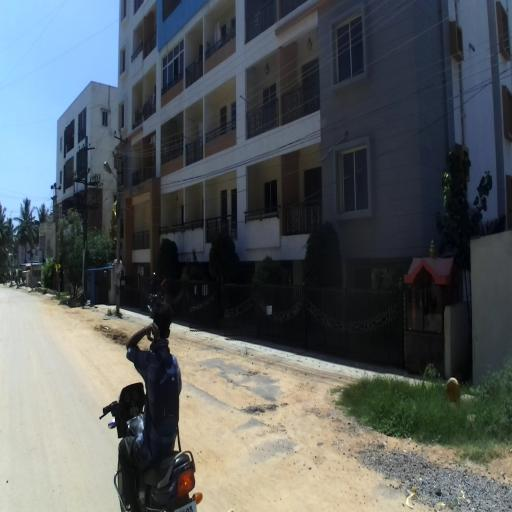street_light_0: (104, 162, 122, 195)
